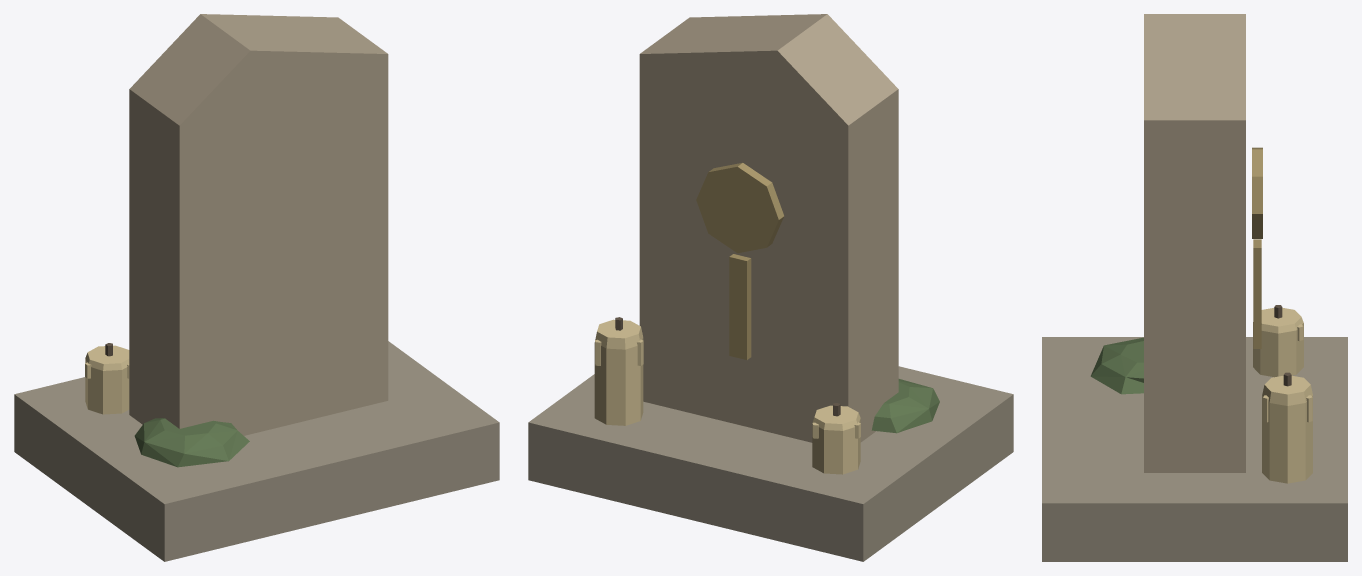
Rendered from DG_Marker_BrokenPilgrim.fbx.
3 renders of one model, left to right at view 1: azimuth 30°, elevation 25°; view 2: azimuth 150°, elevation 25°; view 3: azimuth 270°, elevation 25°, orthographic.
Parts seen in each view (by area): view 1: DG_Marker_BrokenPilgrim; view 2: DG_Marker_BrokenPilgrim; view 3: DG_Marker_BrokenPilgrim.
Boxes of the visible parts, box(x1,y1,x2,y2) form: DG_Marker_BrokenPilgrim: box(14, 14, 499, 561); DG_Marker_BrokenPilgrim: box(528, 14, 1013, 561); DG_Marker_BrokenPilgrim: box(1042, 14, 1347, 561).
Size of the model in its own units: 0.85 by 1.07 by 0.66.
